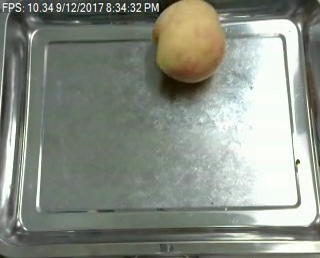Peach: (154, 0, 226, 82)
